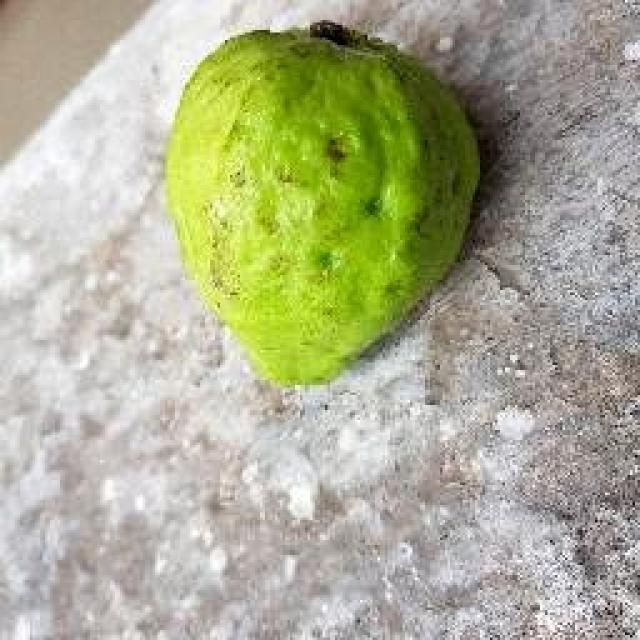Good_Guava: (162, 20, 482, 390)
